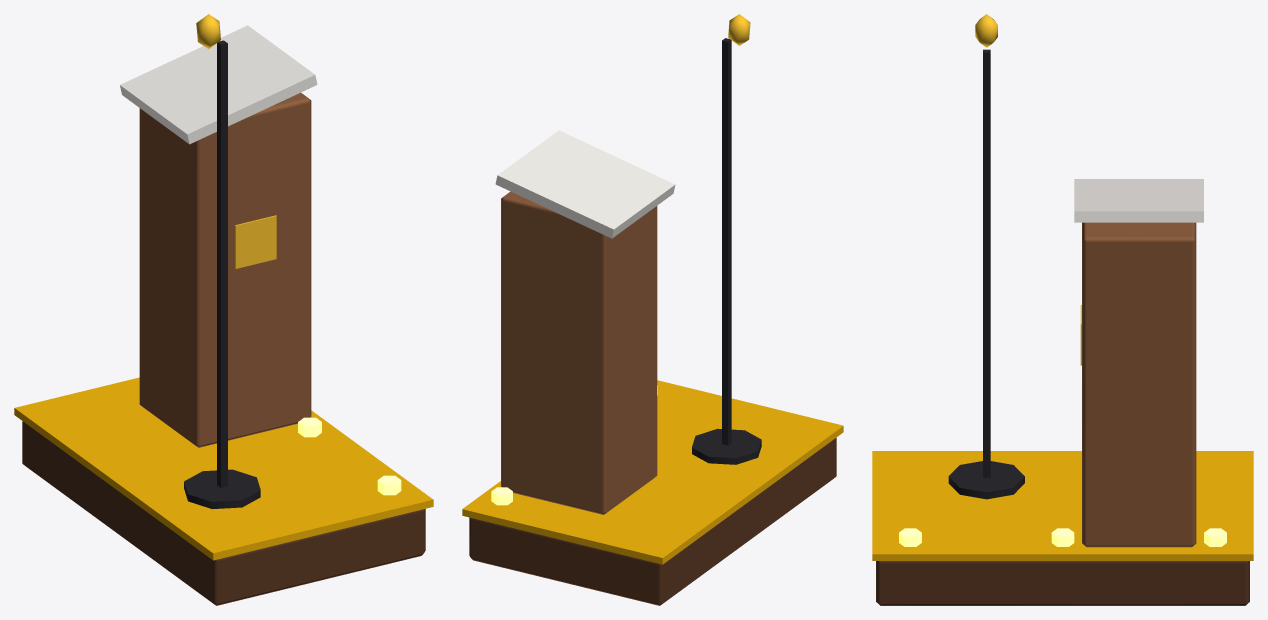
Rendered from station_special_ausstattung_3_3.glb.
3 renders of one model, left to right at view 1: azimuth 30°, elevation 25°; view 2: azimuth 150°, elevation 25°; view 3: azimuth 270°, elevation 25°, orthographic. The views are drawn at different scales.
Visible parts, largest first — view 1: station_special_ausstattung_3_3; view 2: station_special_ausstattung_3_3; view 3: station_special_ausstattung_3_3.
Part boxes in pixels (<box>): station_special_ausstattung_3_3: <box>14,14,433,605</box>; station_special_ausstattung_3_3: <box>462,14,843,605</box>; station_special_ausstattung_3_3: <box>872,14,1253,605</box>.
Size of the model in its own units: 0.64 by 1.5 by 1.
